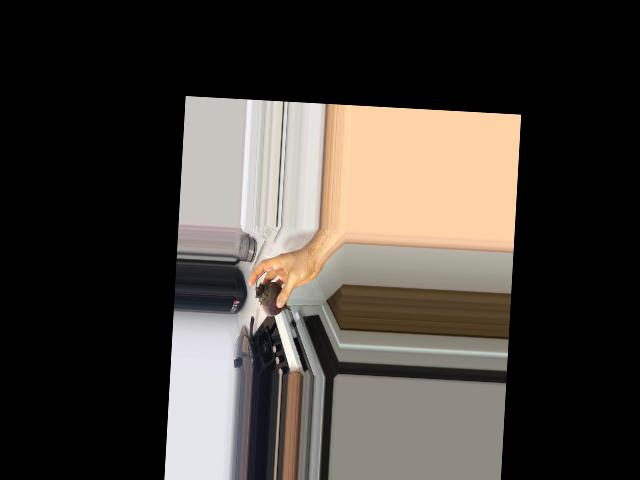beet: (254, 271, 293, 317)
